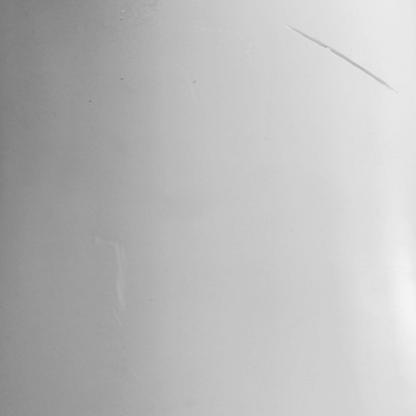sunshang: (292, 28, 399, 91)
